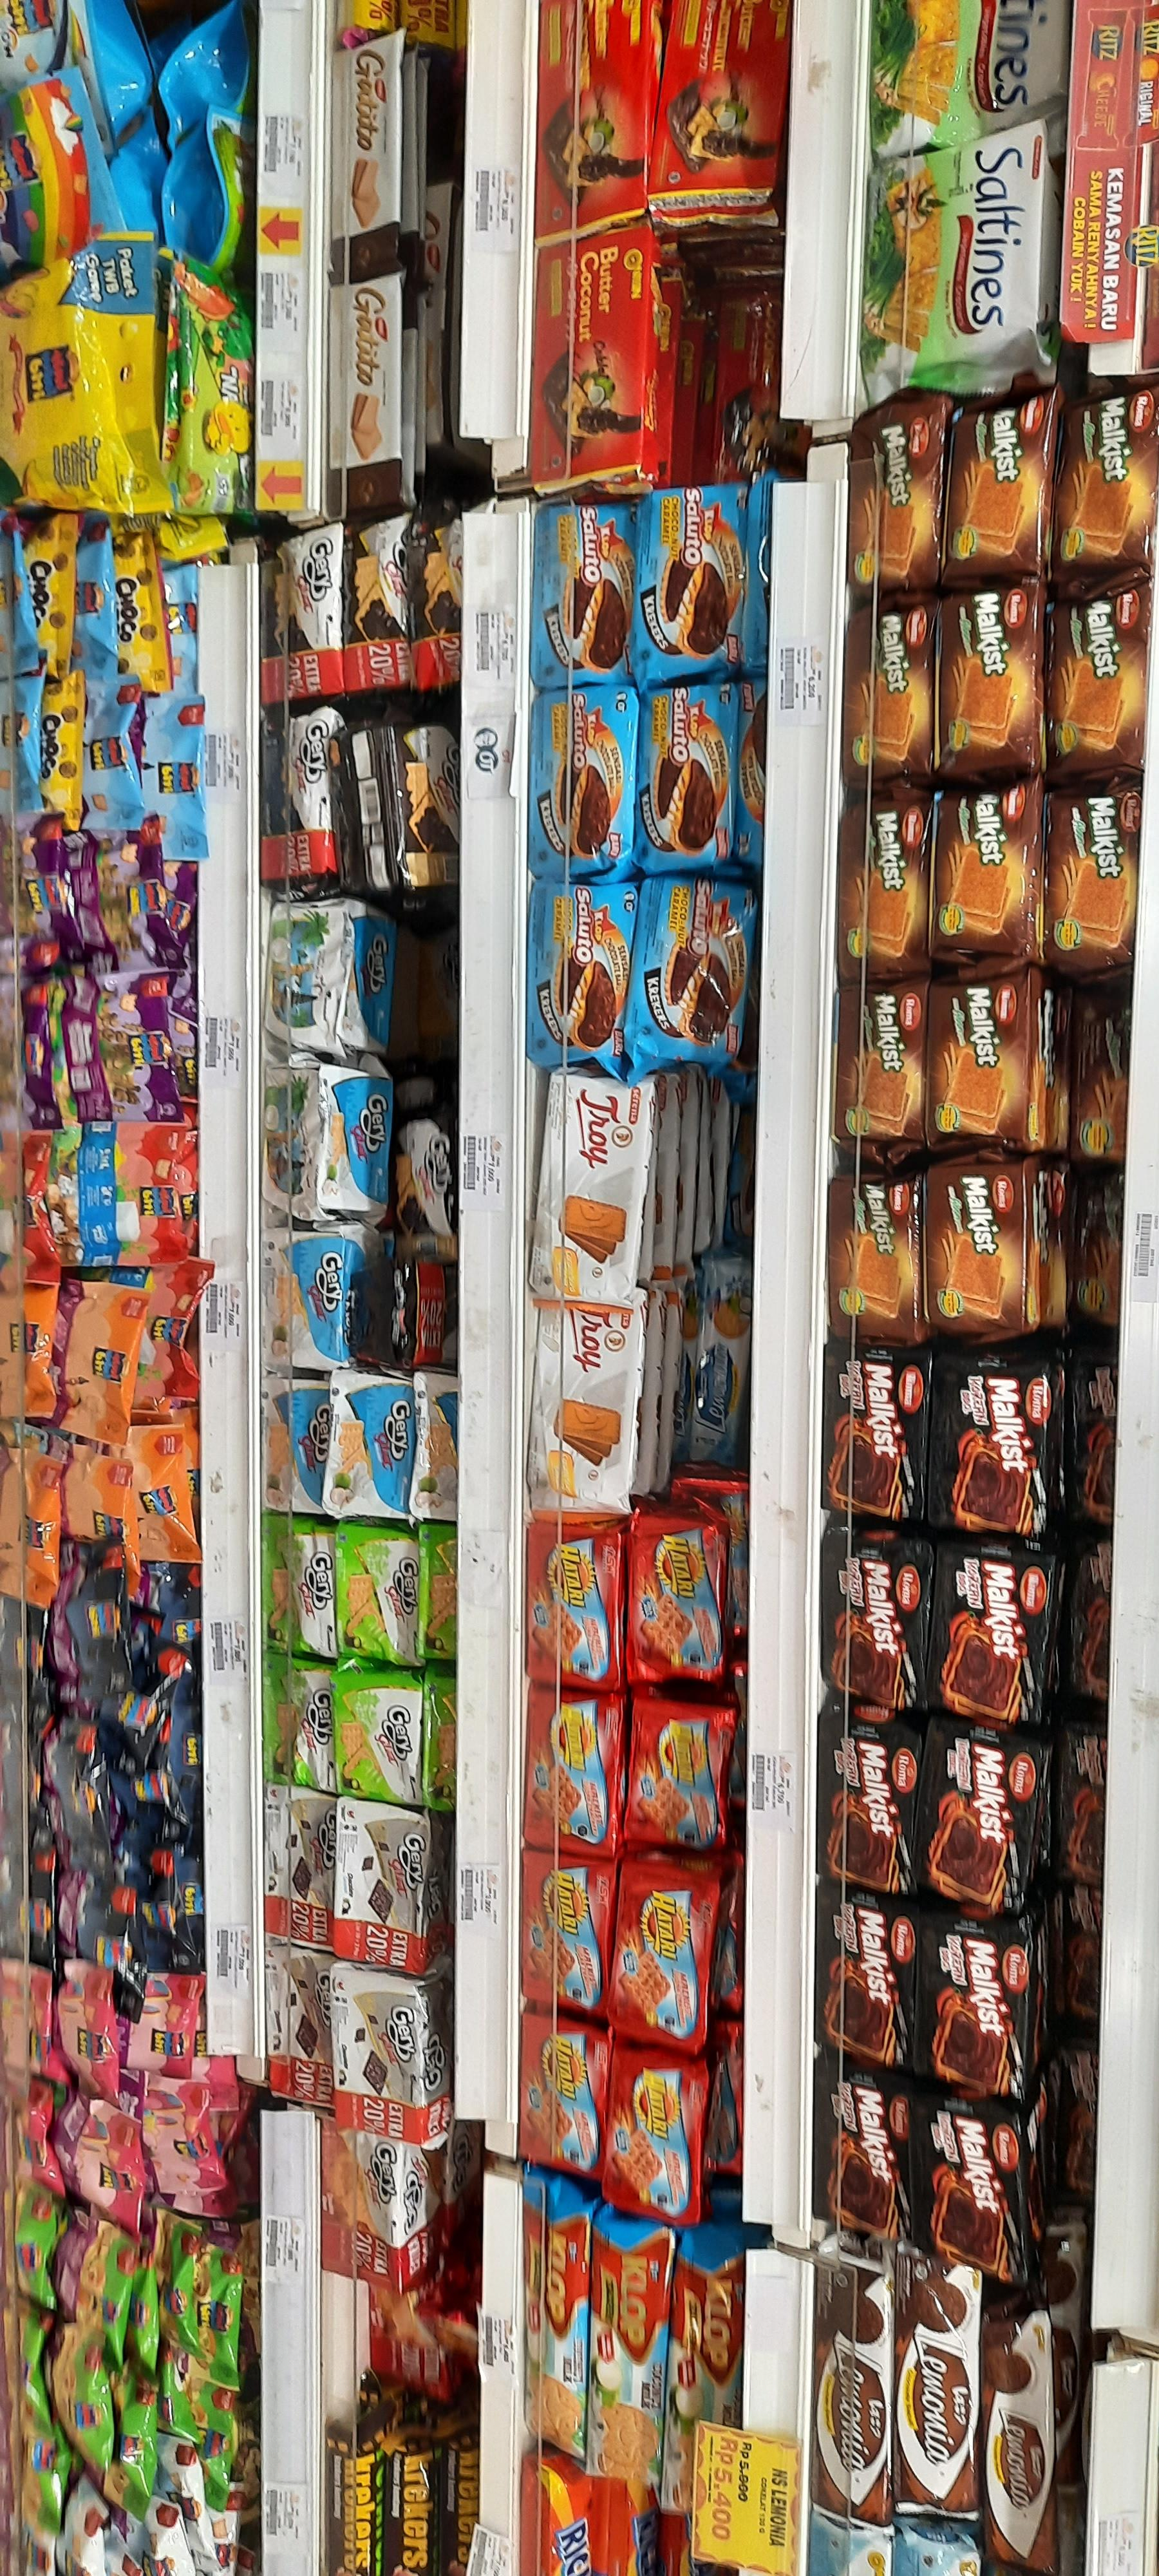90101225202101: (259, 522, 343, 705), (261, 708, 338, 884), (343, 513, 412, 698), (391, 1115, 456, 1234)
90101225209100: (328, 1373, 412, 1518), (261, 1232, 346, 1372), (320, 1065, 391, 1211), (261, 1380, 328, 1515)
90101225212101: (327, 1525, 424, 1663), (330, 1674, 422, 1804), (263, 1518, 338, 1654)
90101225218101: (330, 1968, 451, 2146), (335, 1797, 428, 1973), (264, 1784, 335, 1945), (264, 1945, 333, 2106)
90101225226101: (322, 2127, 442, 2293)
HatariMalkistSugarCrackers: (616, 1858, 717, 2039), (607, 2045, 706, 2228), (627, 1697, 734, 1850), (527, 1523, 621, 1689), (629, 1518, 722, 1682), (524, 1690, 616, 1853), (519, 2016, 609, 2178), (520, 1853, 616, 2006)
KlopCoconutMilkCrackers: (588, 2223, 673, 2476), (524, 2175, 588, 2459)
KlopSalutoChocoNutCaramel: (630, 877, 757, 1058), (637, 483, 747, 678), (529, 687, 639, 874), (529, 879, 637, 1063), (635, 682, 740, 867), (534, 506, 637, 688)
NabatiGatitoLidahKucingCokelat: (328, 274, 402, 506), (332, 31, 401, 274)
NissinButterCoconut: (532, 225, 652, 473), (650, 0, 785, 191), (537, 0, 648, 214)
NissinLemoniaChocolate: (895, 2254, 978, 2520), (811, 2269, 893, 2533), (985, 2310, 1054, 2576)
RomaMalkistAbon: (921, 1723, 1051, 1917), (932, 1354, 1056, 1536), (934, 1541, 1057, 1723), (918, 1914, 1034, 2103), (908, 2098, 1024, 2284), (821, 1526, 936, 1709), (816, 1705, 921, 1898), (937, 582, 1041, 772), (931, 779, 1039, 959), (1047, 578, 1151, 767), (847, 394, 947, 586), (822, 1344, 929, 1523), (813, 1894, 919, 2072), (949, 393, 1051, 578), (1054, 391, 1157, 572), (929, 969, 1034, 1143), (1041, 784, 1139, 964), (813, 2067, 914, 2239), (929, 1160, 1028, 1337), (844, 590, 937, 775), (837, 793, 934, 971), (831, 1175, 924, 1339), (836, 981, 926, 1142)
SaltinesVegetableCrackers: (872, 128, 1044, 370)
SerenaCaramelisedBiscuitTroy: (542, 1076, 652, 1295), (535, 1306, 642, 1505)
